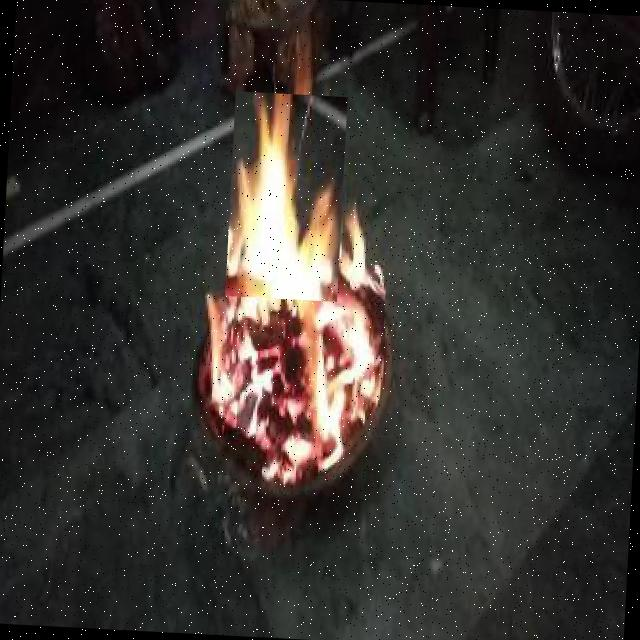fire: (225, 91, 348, 302)
